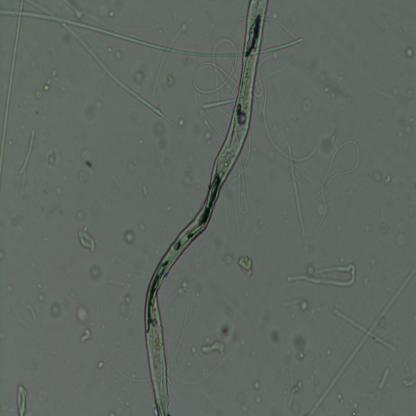Background material: (297, 54, 351, 104), (206, 223, 236, 268), (273, 284, 309, 318), (201, 320, 233, 356), (178, 155, 205, 196), (254, 306, 280, 347), (286, 324, 308, 362), (390, 109, 416, 139), (74, 305, 93, 345), (75, 225, 97, 253), (77, 149, 95, 183), (84, 99, 108, 124), (152, 123, 171, 154), (286, 378, 304, 410), (367, 162, 393, 184), (103, 41, 128, 62), (129, 61, 150, 84), (236, 384, 251, 416), (116, 292, 133, 319), (63, 2, 88, 20), (251, 376, 266, 406), (14, 384, 28, 416), (70, 201, 88, 225), (199, 118, 213, 148), (237, 254, 254, 278), (34, 277, 48, 305), (43, 70, 59, 94), (22, 300, 40, 321), (87, 260, 103, 282), (134, 176, 150, 196), (45, 147, 59, 168), (122, 228, 138, 246), (161, 74, 178, 90), (5, 276, 16, 298), (107, 403, 124, 416), (30, 89, 44, 104), (96, 354, 106, 374), (49, 302, 60, 318), (55, 182, 65, 197), (175, 116, 186, 128), (406, 87, 416, 100), (388, 86, 401, 96), (404, 47, 414, 59), (0, 244, 6, 263), (106, 7, 116, 18), (178, 22, 188, 32)
Cotton: (146, 0, 269, 415)
Glass filter fibre: (28, 1, 173, 126), (309, 267, 416, 415), (0, 10, 244, 58), (312, 139, 361, 239), (262, 85, 318, 162), (0, 0, 23, 173), (336, 307, 396, 353), (191, 38, 240, 92), (166, 285, 192, 368), (285, 146, 307, 234), (286, 262, 358, 287), (260, 36, 302, 57), (236, 154, 249, 214), (20, 130, 36, 174), (254, 54, 270, 97), (200, 96, 237, 110), (378, 368, 390, 389)
